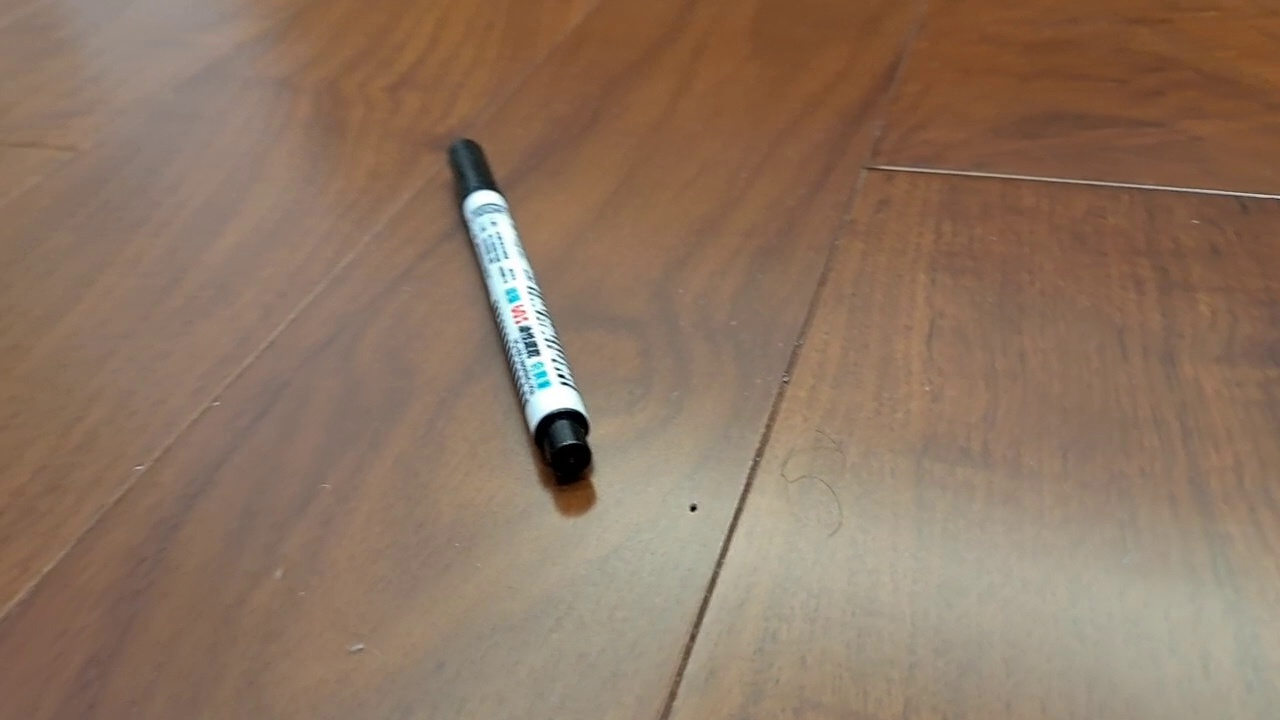pen: (444, 137, 594, 484)
